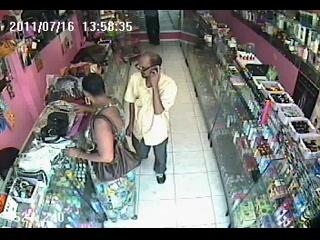Normal: (64, 74, 136, 210), (123, 51, 178, 184)
